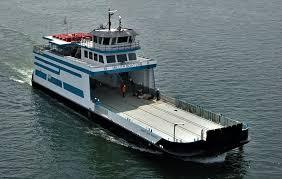Ship: (35, 13, 249, 159)
